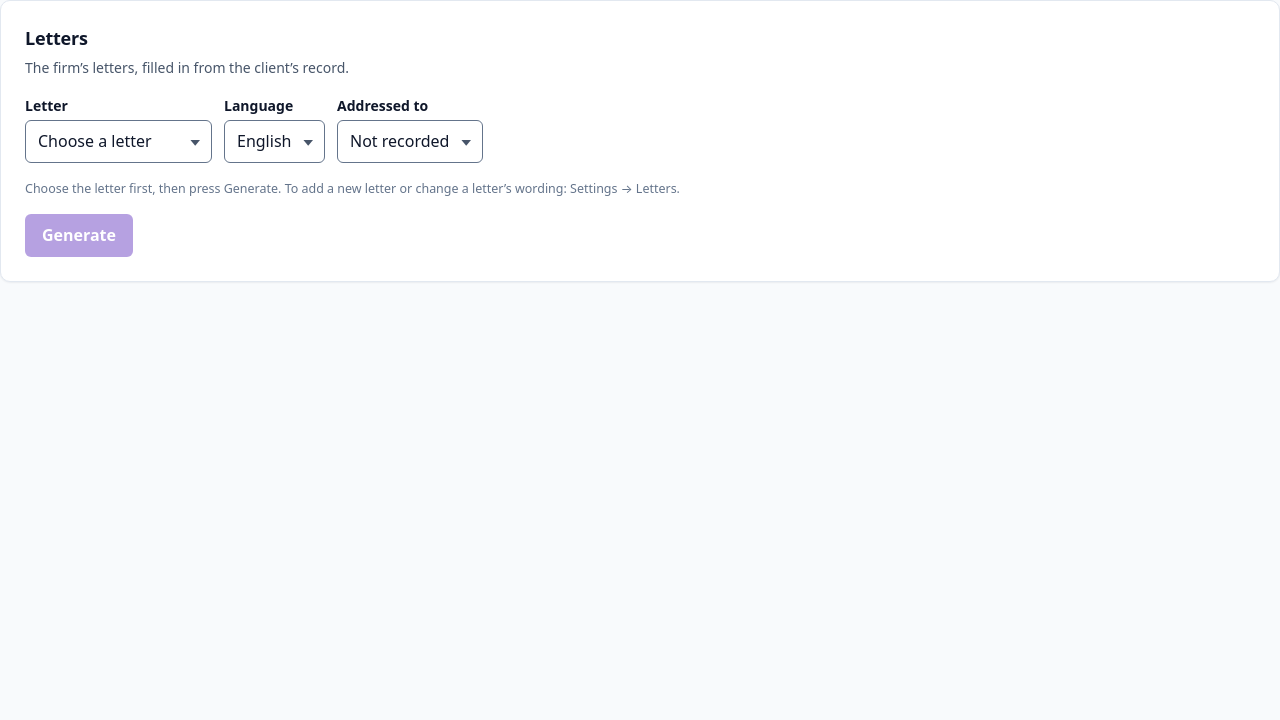
Test: the firm’s letters (FR-15) › fills the letter in from the client record
Select "Engagement letter" in the dropdown labelled "Letter" at (118, 142), box left=25, top=120, right=212, bottom=163
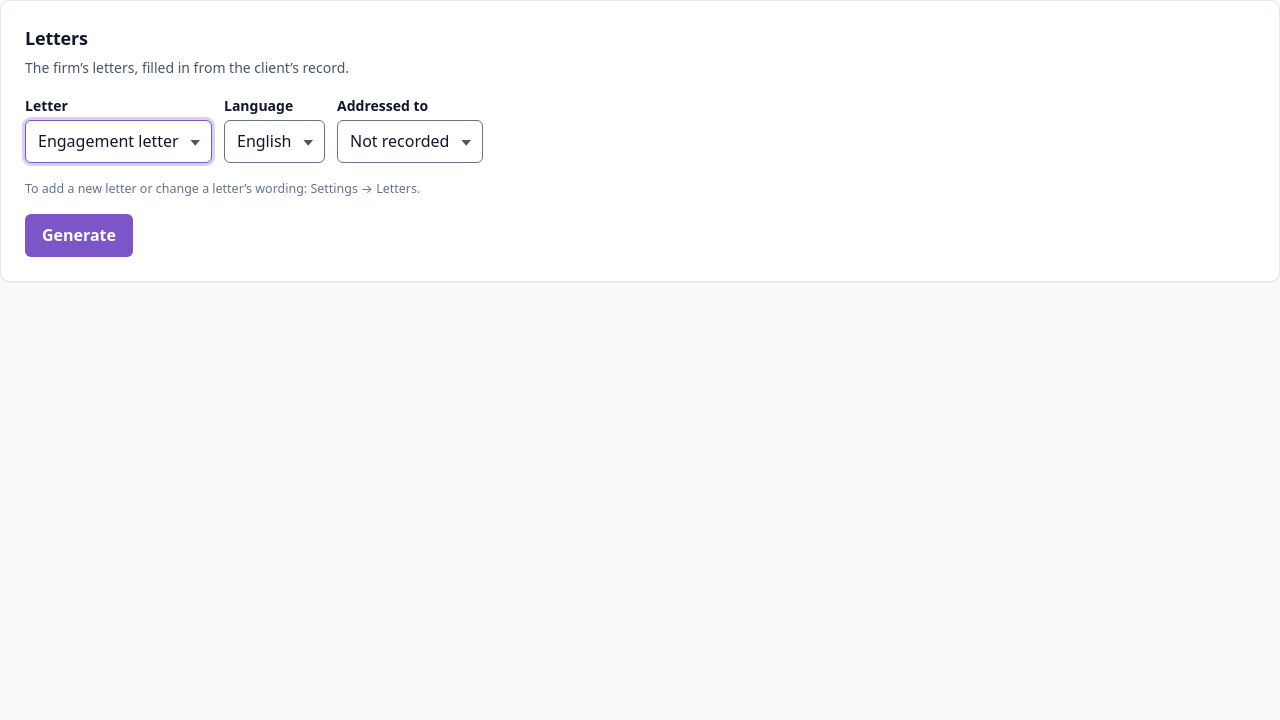
Select "English" in the dropdown labelled "Language" at (274, 142), box left=224, top=120, right=325, bottom=163
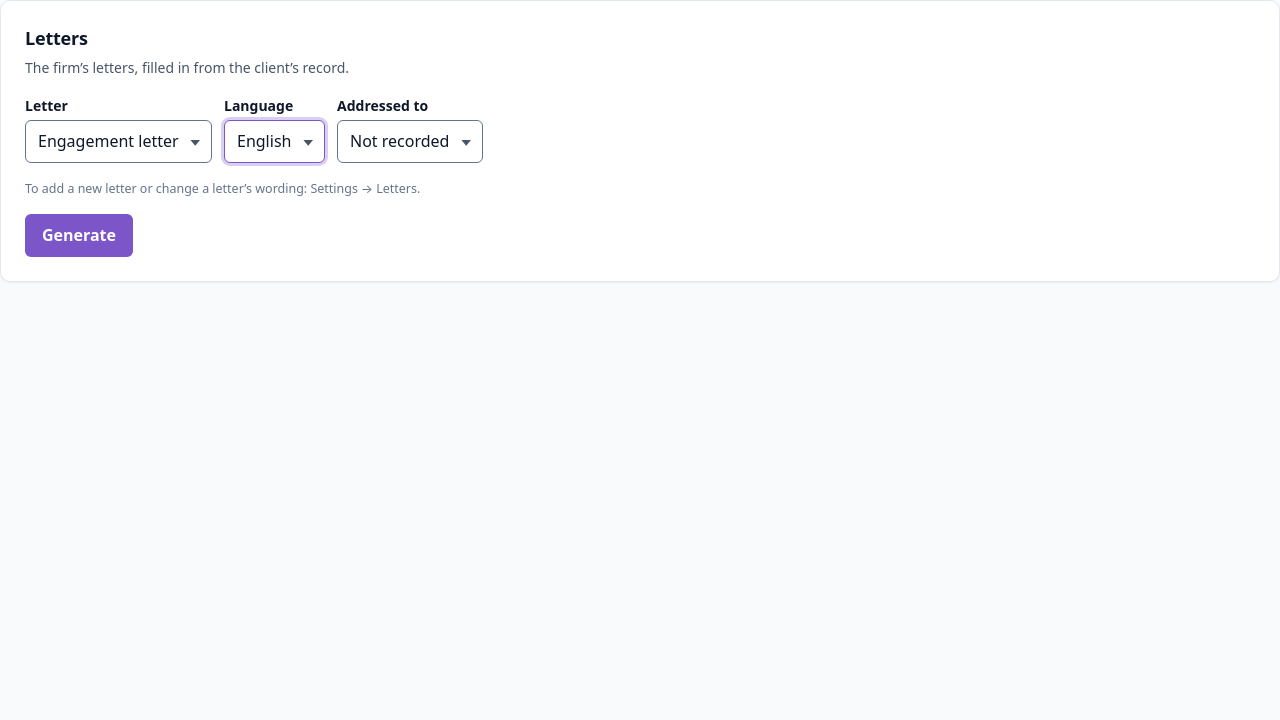
Click the button "Generate" at (79, 236), box left=25, top=214, right=133, bottom=257
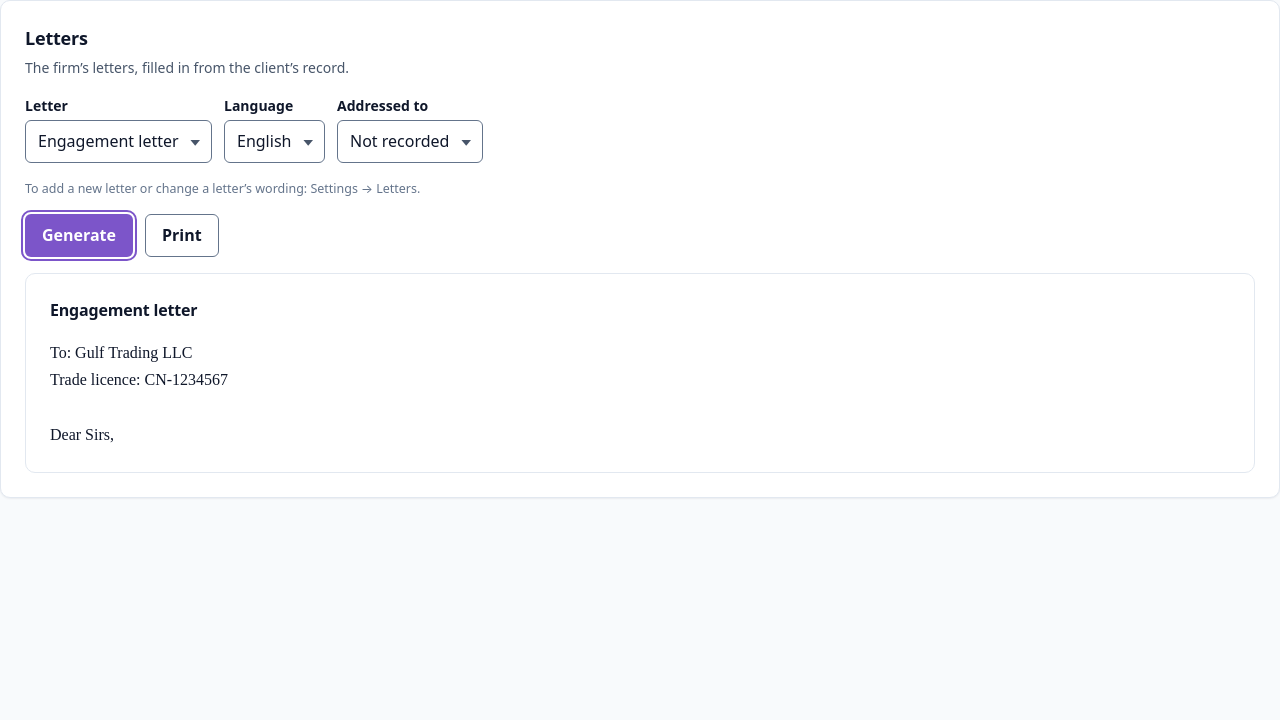
Now the text "To: Gulf Trading LLC Trade licence: CN-1234567 Dear Sirs," is shown, box left=50, top=344, right=228, bottom=443
